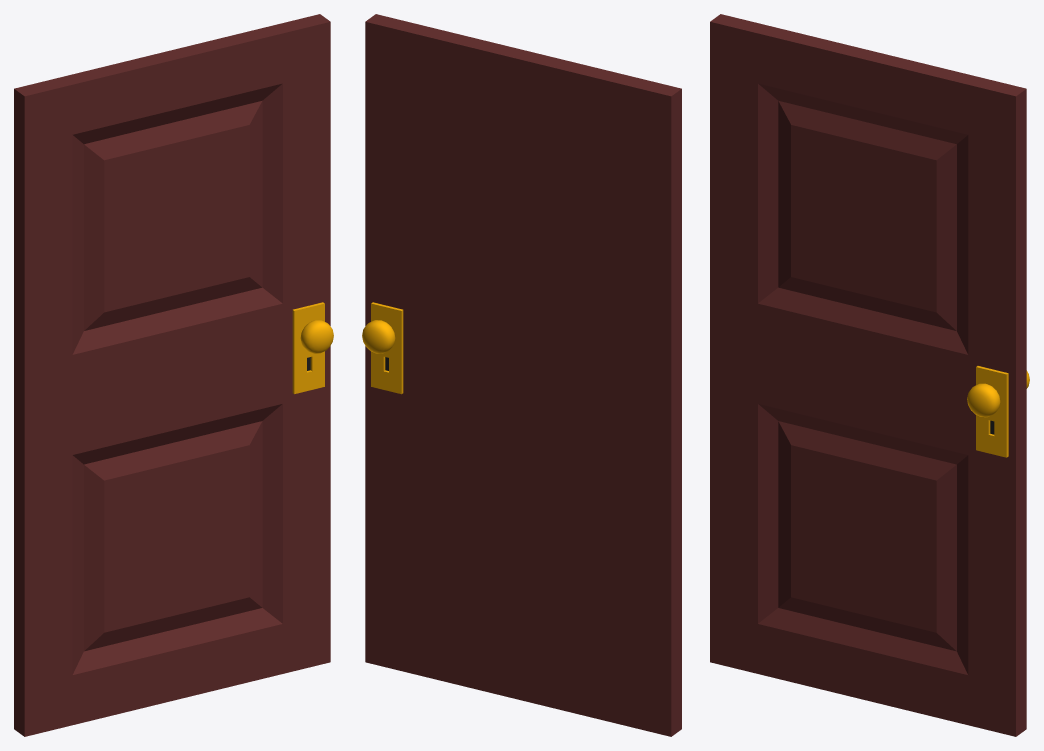
The model's file is door.fbx.
3 views of the same model, side by side, from view 1: azimuth 30°, elevation 25°; view 2: azimuth 150°, elevation 25°; view 3: azimuth 330°, elevation 25° (orthographic).
Parts seen in each view (by area): view 1: Cube.1007; view 2: Cube.1007; view 3: Cube.1007.
Part boxes in pixels (x1,y1,x2,y2): Cube.1007: [14, 14, 333, 736]; Cube.1007: [362, 14, 681, 736]; Cube.1007: [710, 14, 1029, 736].
Bounding box in the file's own units: 119 × 238 × 27.67.
1 material, 1 textured.
